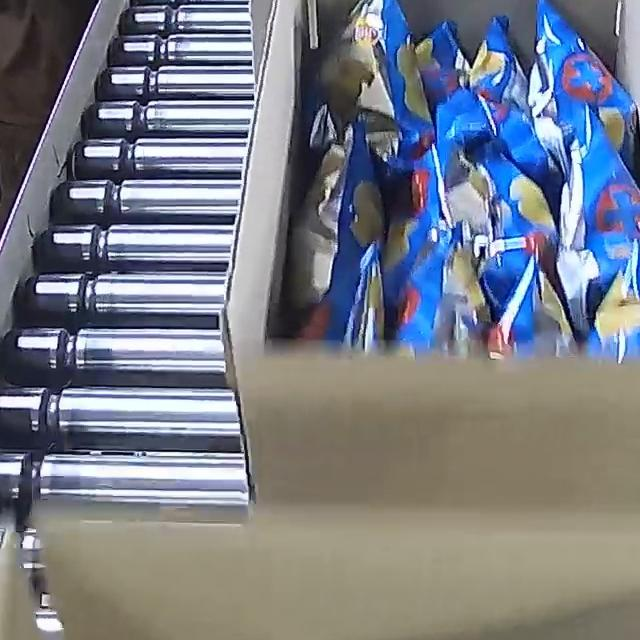paprika: (289, 0, 640, 361)
